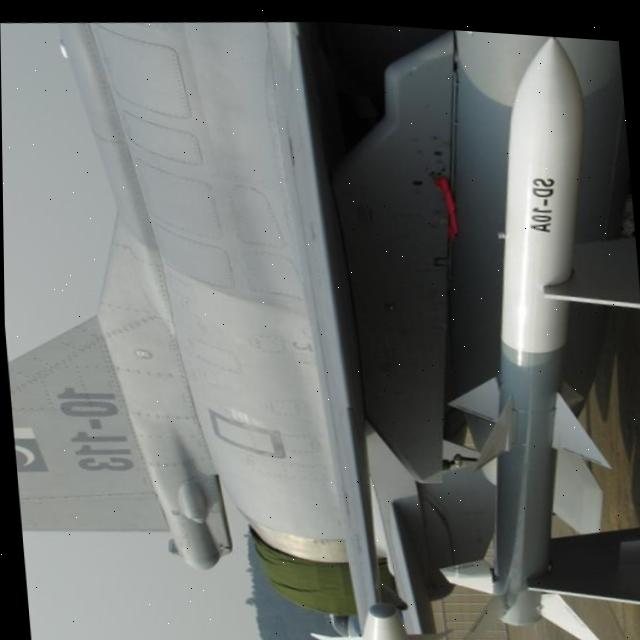missile: (396, 21, 640, 640)
